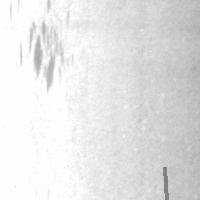inclusion: (14, 12, 72, 92), (162, 165, 168, 200)
